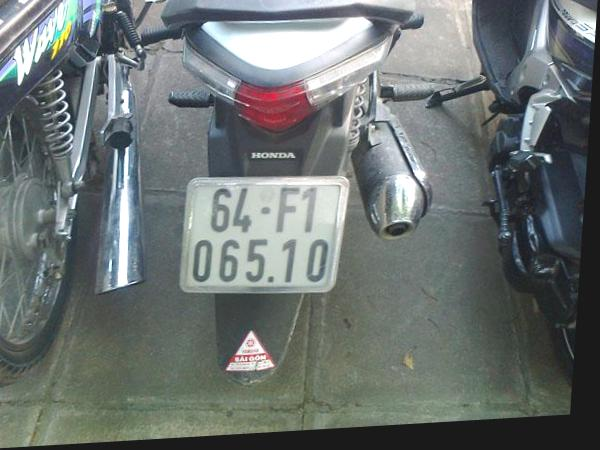License_Plate: (183, 169, 341, 304)
